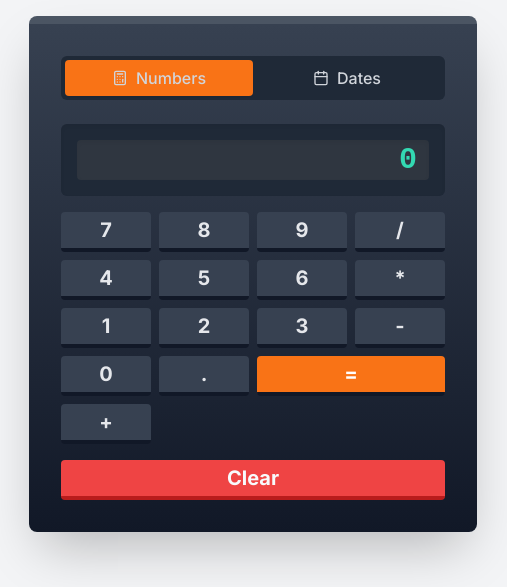
Test: Numbers Calculator › should append digits to previous result
Click the button "1" at (106,328), box [61,308,151,348]
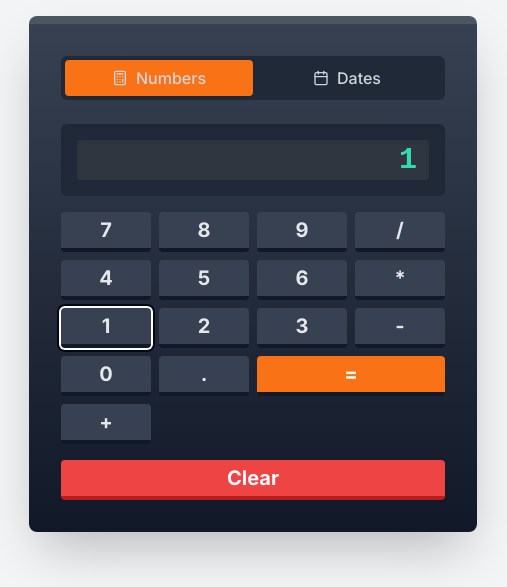
Click the button "+" at (106,424), box [61,404,151,444]
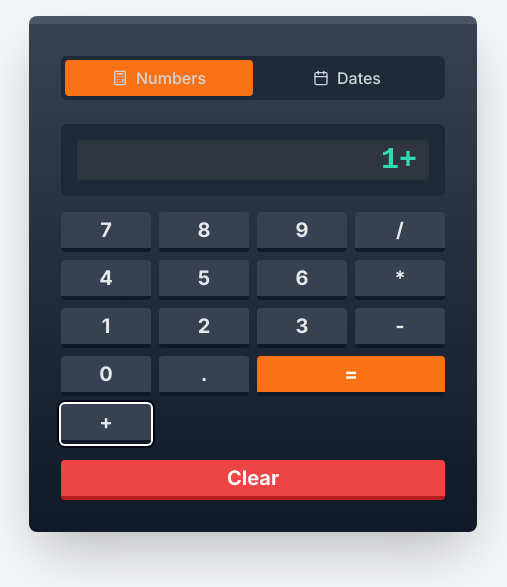
Click the button "2" at (204,328), box [159,308,249,348]
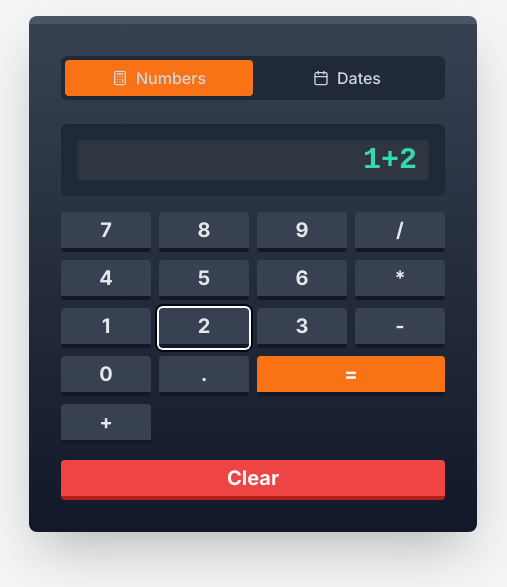
Click the button "=" at (351,376), box [257,356,445,396]
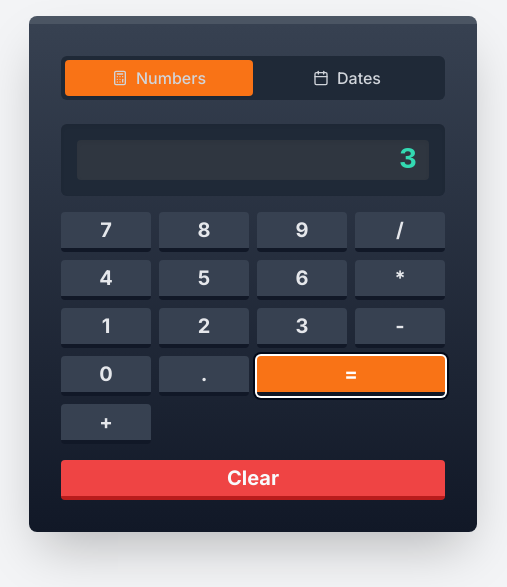
Expected: the field with test id "number-display" holds "3", [77,140,429,180]
Click the button "5" at (204,280), box [159,260,249,300]
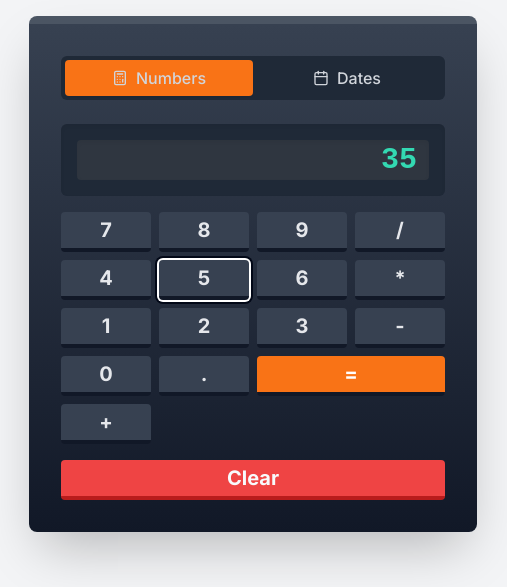
Expected: the field with test id "number-display" holds "35", [77,140,429,180]
